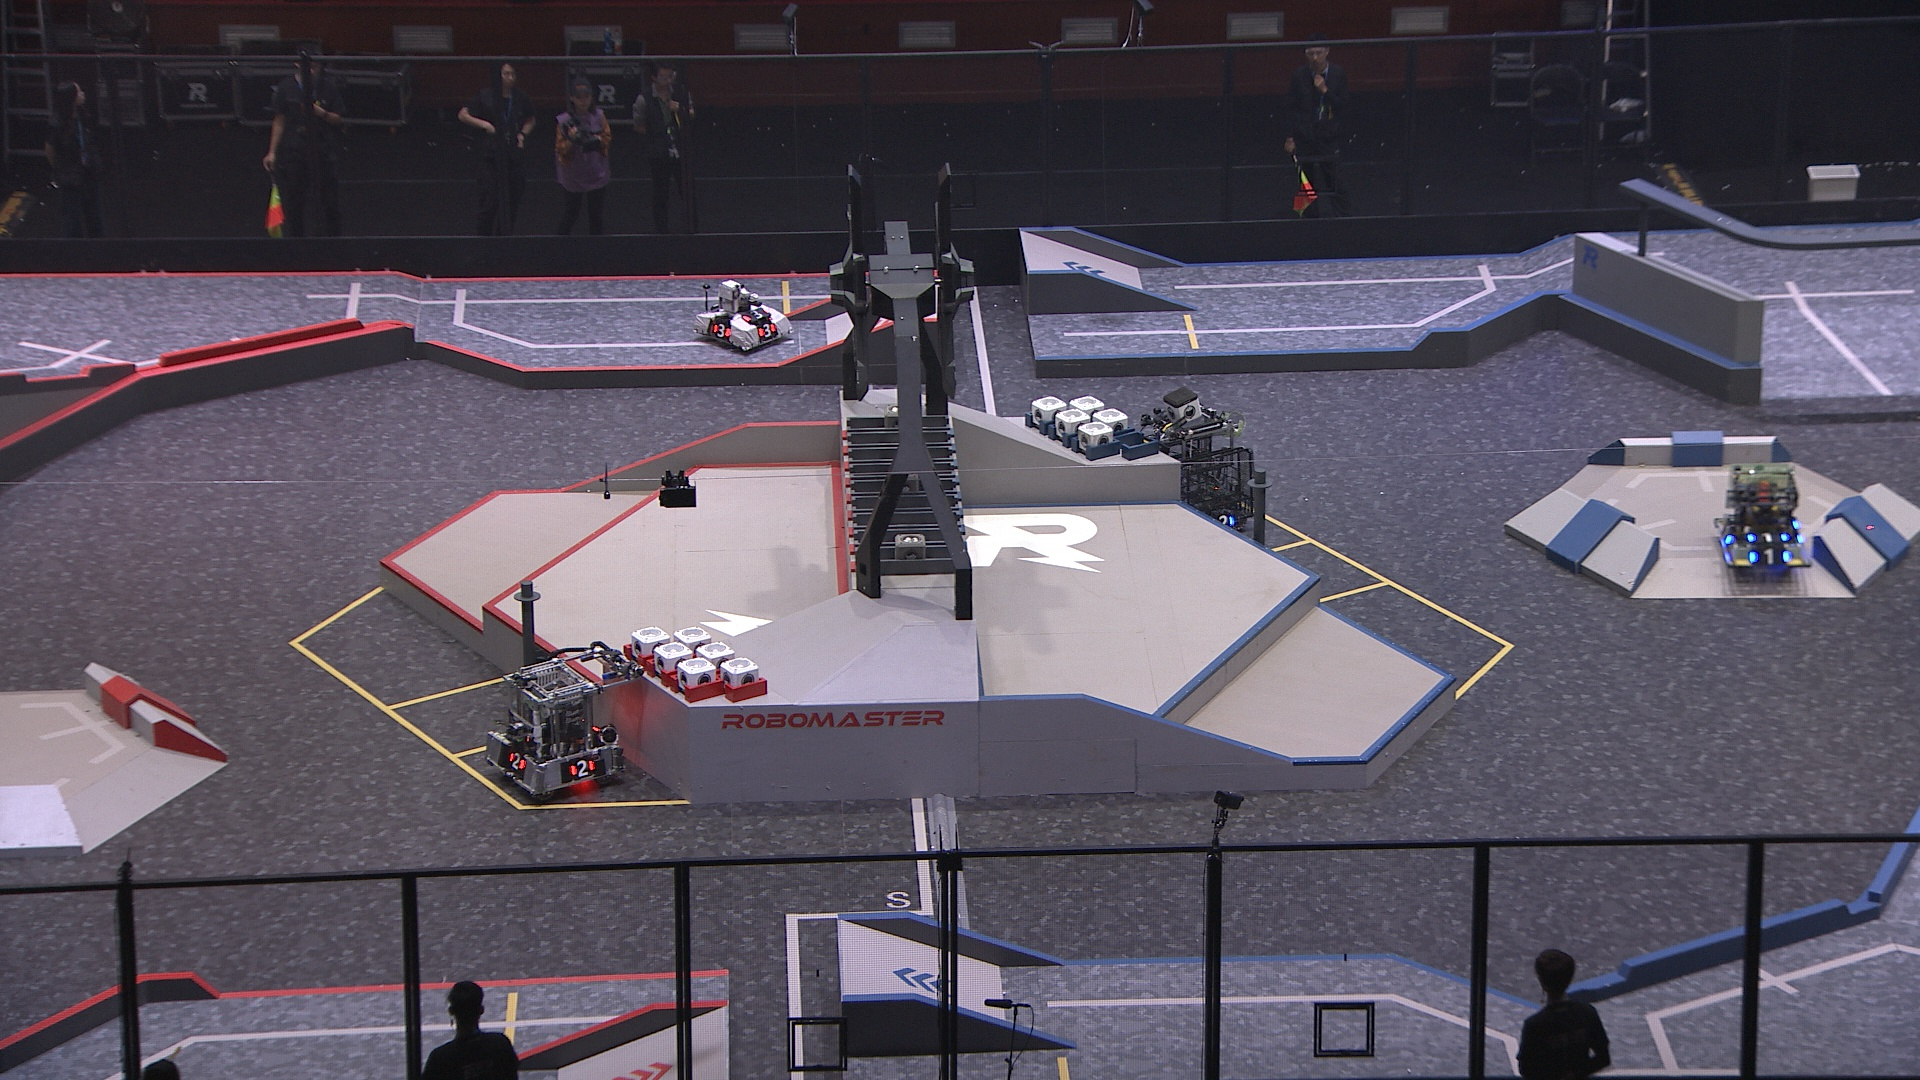armor: (1747, 546, 1792, 564), (1746, 531, 1792, 545), (502, 749, 527, 770), (568, 760, 595, 779), (1717, 524, 1735, 543), (741, 310, 769, 322), (1215, 513, 1237, 527), (756, 322, 775, 338), (712, 323, 731, 339)
car: (480, 655, 626, 800), (1138, 401, 1262, 541), (1712, 465, 1815, 572), (694, 278, 793, 352)
